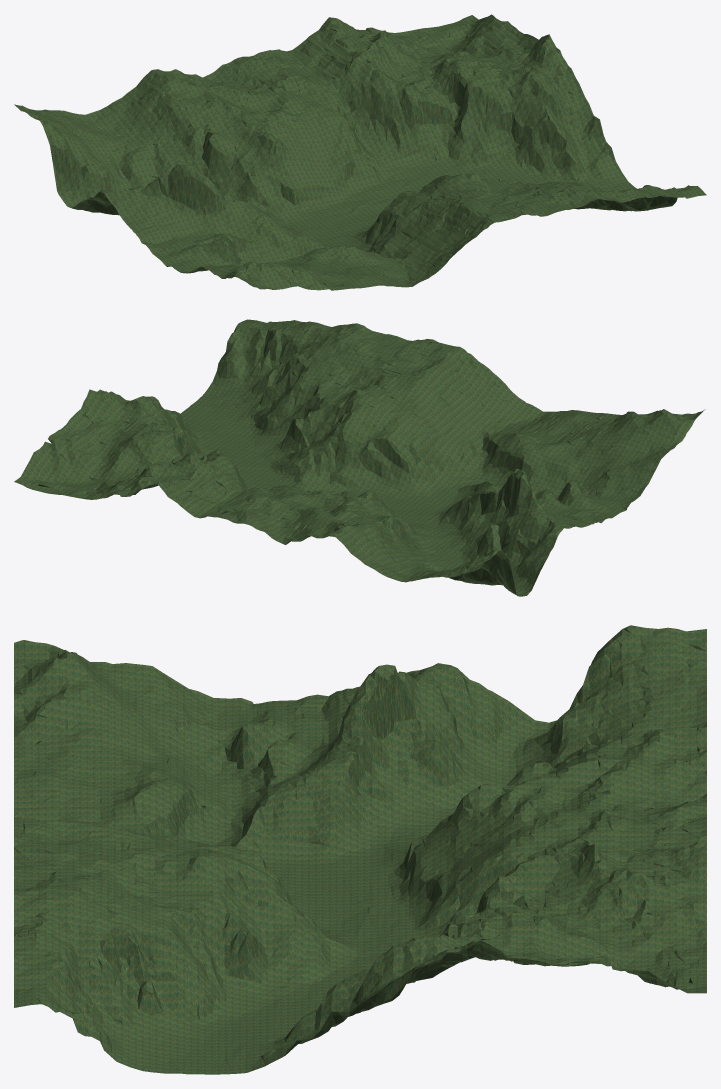
File: terrain.gltf
The picture shows the model from 3 angles, top to bottom: view 1: azimuth 30°, elevation 25°; view 2: azimuth 150°, elevation 25°; view 3: azimuth 270°, elevation 25°; orthographic projection. The views are drawn at different scales.
Visible parts, largest first — view 1: Plane475; view 2: Plane475; view 3: Plane475.
Boxes of the visible parts, x1,y1,x2,y2 form: Plane475: [14, 14, 706, 290]; Plane475: [14, 319, 704, 596]; Plane475: [14, 625, 706, 1074].
Size of the model in its own units: 1485 by 282 by 1310.
1 material, 1 textured.
